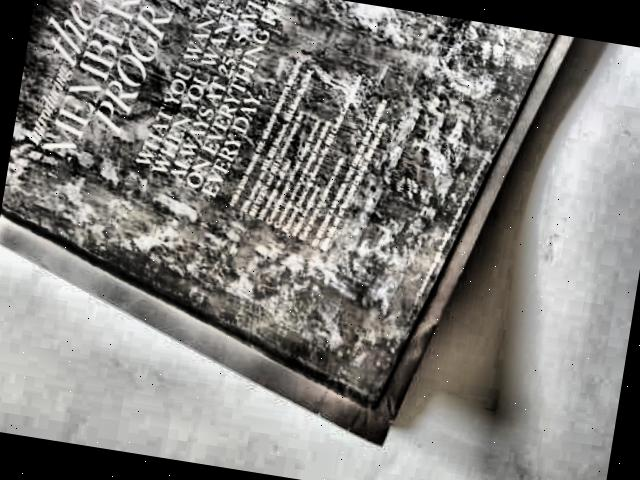Paper: (0, 0, 582, 470)
